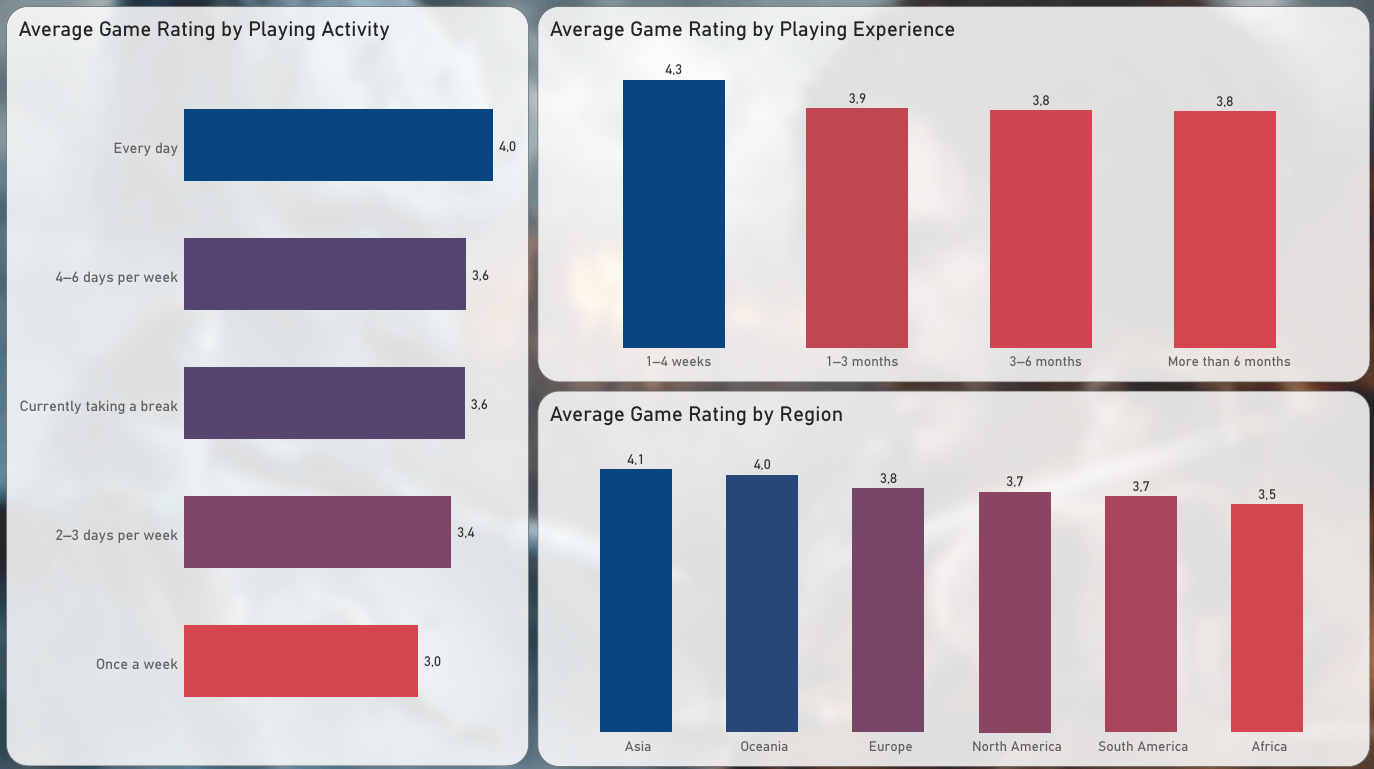

The page's visual inventory and layout, read from the dashboard file:
{"tool":"powerbi","page":{"name":"Bonus","canvas":[1920,1080],"ordinal":6},"visuals":[{"type":"clusteredColumnChart","title":"Average Game Rating by Region","fields":{"Category":["Questions.Where are you playing from?"],"Y":["Formulas.Avg_Game_Rating"]},"box":[749.7,545.5,1158.1,523],"z":0},{"type":"clusteredColumnChart","title":"Average Game Rating by Playing Experience","fields":{"Category":["Questions.Playing_Experience"],"Y":["Formulas.Avg_Game_Rating"]},"box":[749.7,10.7,1158,523],"z":1000},{"type":"clusteredBarChart","title":"Average Game Rating by Playing Activity","fields":{"Category":["Questions.Playing_Activity"],"Y":["Formulas.Avg_Game_Rating"]},"box":[10.7,10.7,727,1057.5],"z":2000}]}

Visuals, with their boxes in screenshot pixels (x1, y1, x2, y2), scaled from the page's 1920x1080 canvas onto the 1374x769 screenshot:
"Average Game Rating by Region" clusteredColumnChart: 537/388/1365/761
"Average Game Rating by Playing Experience" clusteredColumnChart: 537/8/1365/380
"Average Game Rating by Playing Activity" clusteredBarChart: 8/8/528/761
